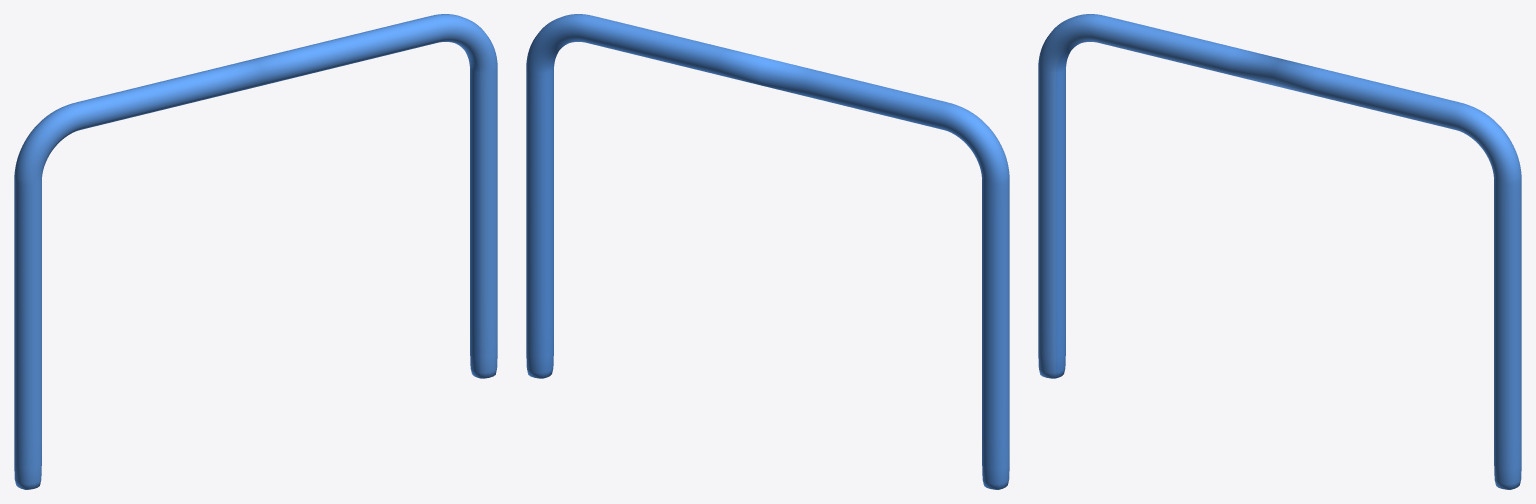
Rendered from trap_fencesmall_3.glb.
3 renders of one model, left to right at view 1: azimuth 30°, elevation 25°; view 2: azimuth 150°, elevation 25°; view 3: azimuth 330°, elevation 25°, orthographic.
Parts seen in each view (by area): view 1: Cube.007_visual; view 2: Cube.007_visual; view 3: Cube.007_visual.
Boxes of the visible parts, bbox=[...] form: Cube.007_visual: bbox=[14, 14, 497, 489]; Cube.007_visual: bbox=[526, 14, 1009, 489]; Cube.007_visual: bbox=[1038, 14, 1521, 489].
Size of what is drawn, in the model's own units: 1.94 by 1.43 by 0.0968.
1 material, 1 textured.
